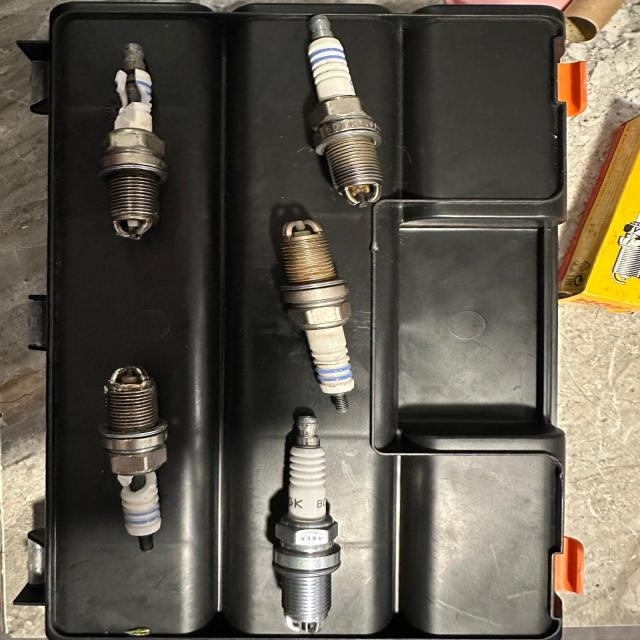damaged_spark-plug: (91, 364, 192, 549), (101, 42, 171, 241)
spark-plug: (268, 221, 373, 414), (260, 412, 344, 629), (296, 14, 389, 204)
